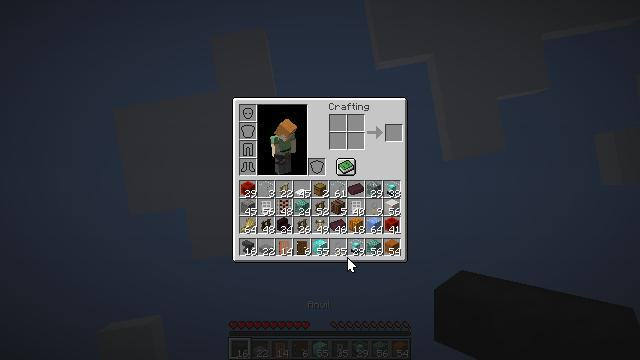cursor: (257, 347, 273, 357)
